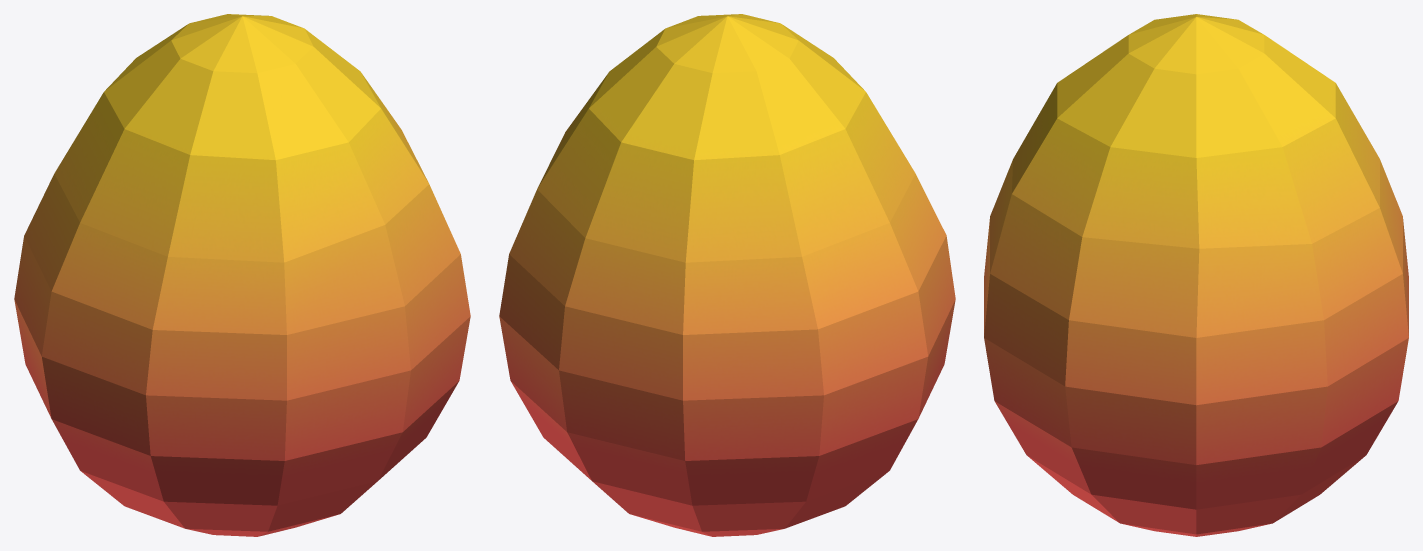
Rendered from egg.fbx.
3 views of the same model, side by side, from view 1: azimuth 30°, elevation 25°; view 2: azimuth 150°, elevation 25°; view 3: azimuth 270°, elevation 25° (orthographic).
Visible parts, largest first — view 1: pasted__pSphere6; view 2: pasted__pSphere6; view 3: pasted__pSphere6.
Part boxes in pixels (x1,y1,x2,y2): pasted__pSphere6: (14,14,470,536); pasted__pSphere6: (499,14,955,536); pasted__pSphere6: (984,14,1408,536).
Bounding box in the file's own units: 2 × 2.39 × 1.84.
